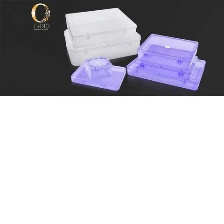plastic_box: (57, 3, 146, 70), (122, 28, 212, 94), (67, 52, 132, 93)
